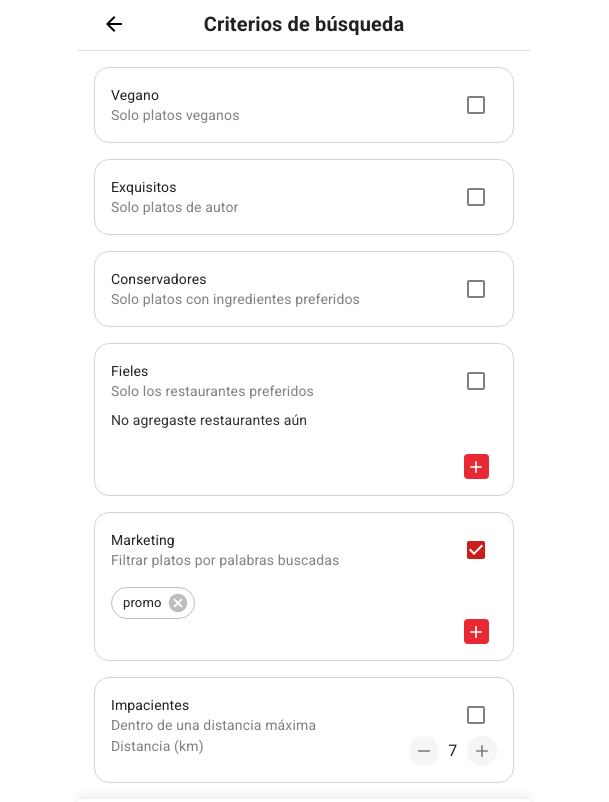
Test: SearchCriteria > criterio consumista › normaliza las frases y evita duplicados al guardar
Click the button with test id "btn-consumista-add" at coordinates (476, 632), box [464,619,489,644]
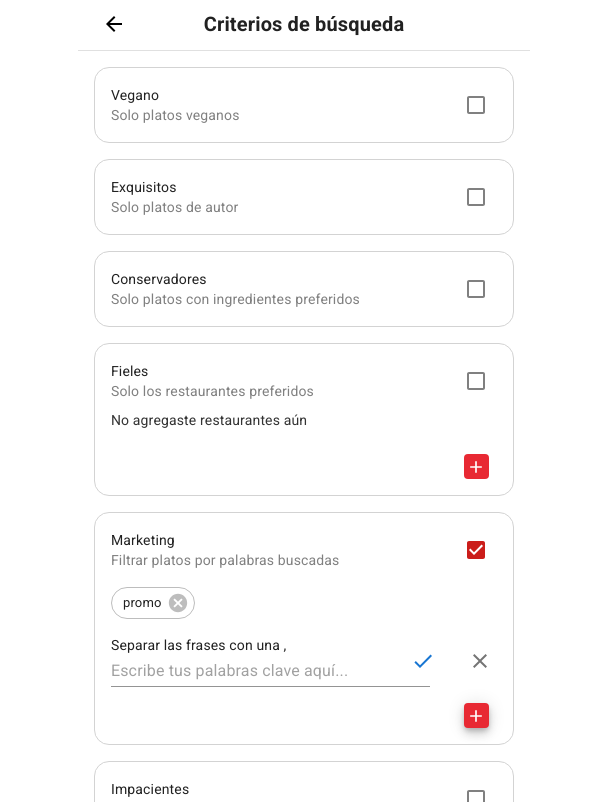
Type "promo, Descuento, PROMO " into the element with test id "input-frases" at coordinates (271, 671), box [111,655,430,687]
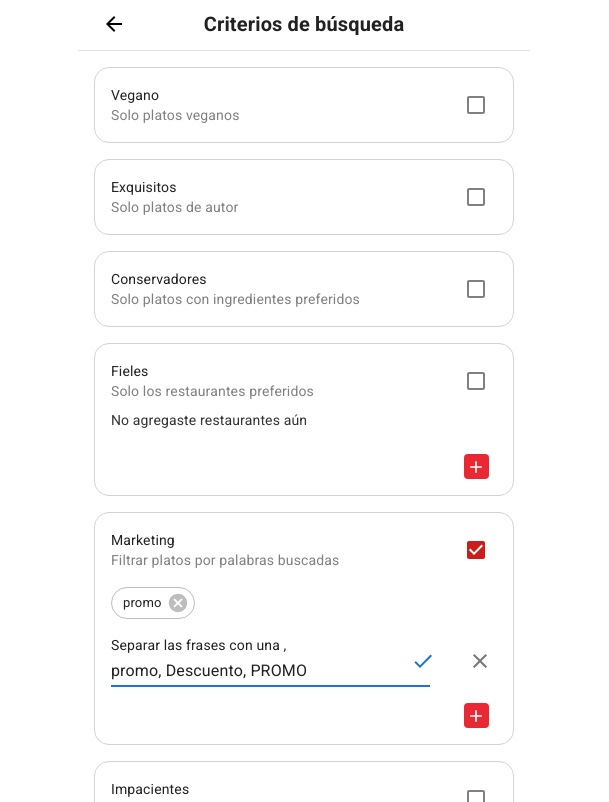
Botón con el ícono de Check para guardar
Click the button with test id "btn-frases-add" at coordinates (423, 661), box [391,645,455,677]
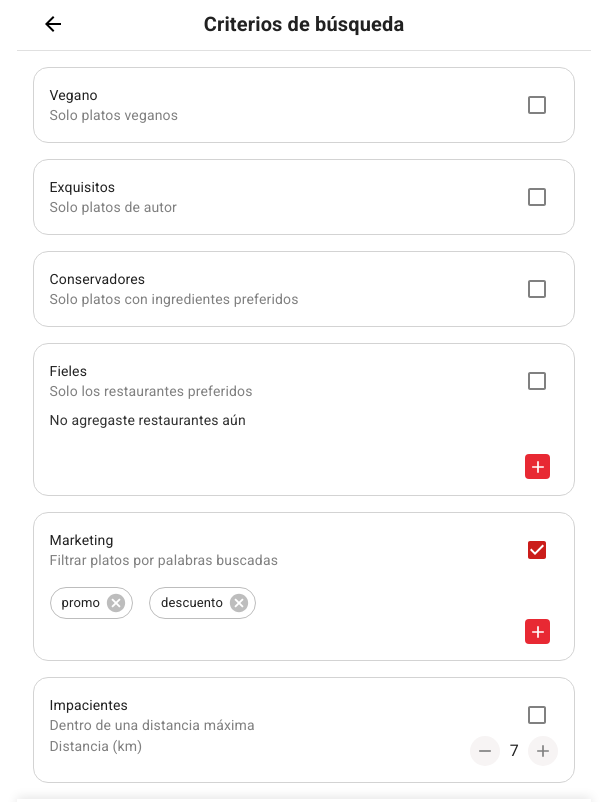
Expected: the text "promo" is shown once, [62,596,100,610]
Expected: the text "descuento" is shown once, [161,596,223,610]
